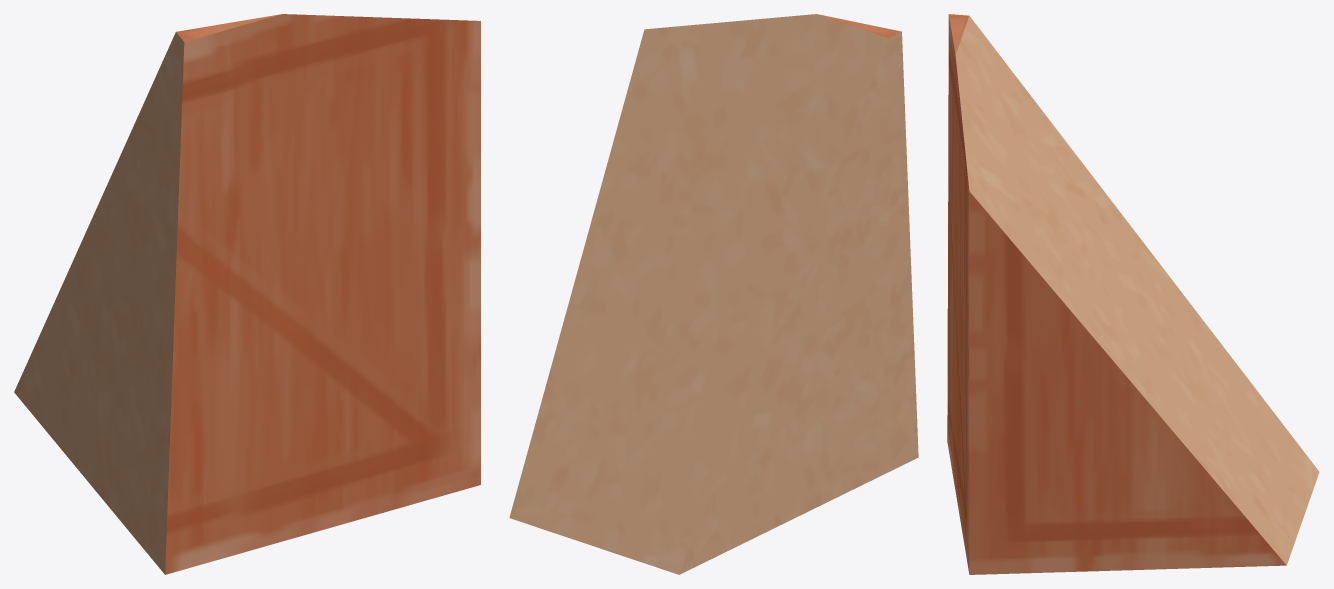
The model's file is stack_crates_s03.fbx.
3 views of the same model, side by side, from view 1: azimuth 30°, elevation 25°; view 2: azimuth 150°, elevation 25°; view 3: azimuth 270°, elevation 25° (orthographic). The views are drawn at different scales.
Parts seen in each view (by area): view 1: stack_crates_s03; view 2: stack_crates_s03; view 3: stack_crates_s03.
Part boxes in pixels (x1=…): stack_crates_s03: x1=14, y1=14, x2=480, y2=574; stack_crates_s03: x1=509, y1=14, x2=918, y2=574; stack_crates_s03: x1=947, y1=14, x2=1319, y2=574.
Bounding box in the file's own units: 1.96 × 3 × 2.32.
